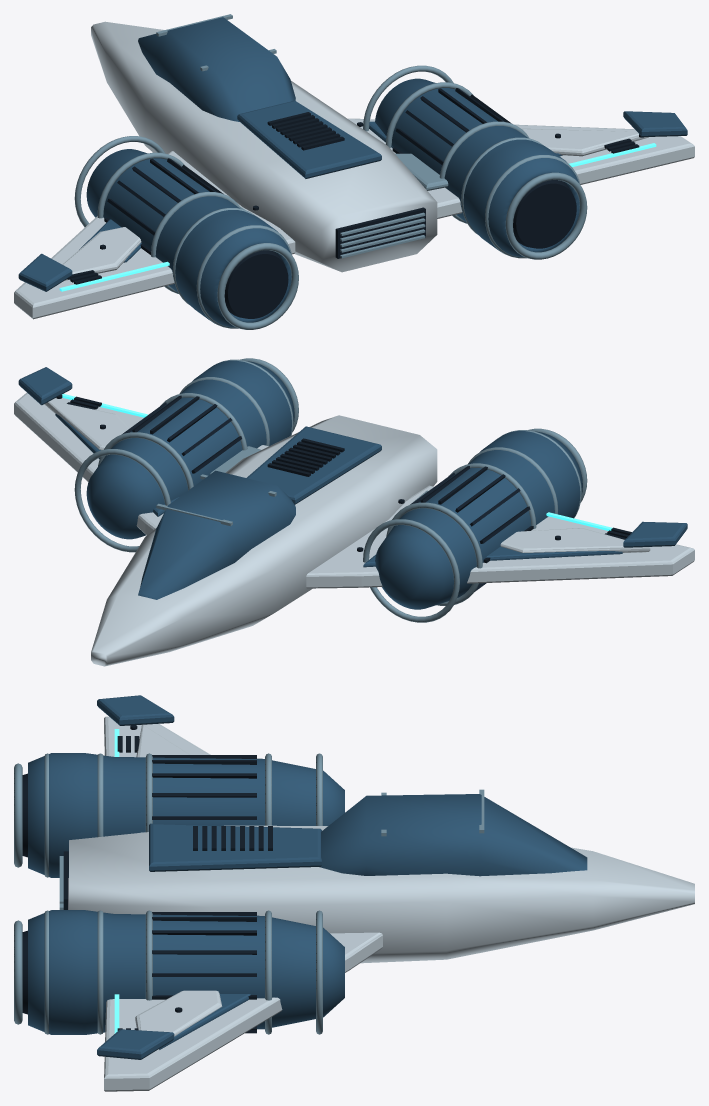
Rendered from aurora.glb.
3 views of the same model, one above another, from view 1: azimuth 30°, elevation 25°; view 2: azimuth 150°, elevation 25°; view 3: azimuth 270°, elevation 25° (orthographic). The views are drawn at different scales.
Visible parts, largest first — view 1: blue, ceramic, steel, dark, glow; view 2: blue, ceramic, steel, dark, glow; view 3: blue, ceramic, steel, dark.
Part boxes in pixels (<box>): blue: <box>18,17,687,327</box>; ceramic: <box>14,21,694,319</box>; steel: <box>74,14,587,329</box>; dark: <box>67,88,643,318</box>; glow: <box>59,143,656,291</box>; blue: <box>18,360,687,609</box>; ceramic: <box>14,392,694,666</box>; steel: <box>74,358,587,622</box>; dark: <box>56,395,631,591</box>; glow: <box>62,394,612,530</box>; blue: <box>28,695,587,1059</box>; ceramic: <box>69,716,694,1091</box>; steel: <box>14,753,484,1034</box>; dark: <box>22,725,272,1033</box>.
Bounding box in the file's own units: 4.36 × 0.8 × 3.48.
